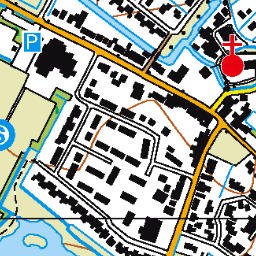church: (217, 31, 248, 78)
